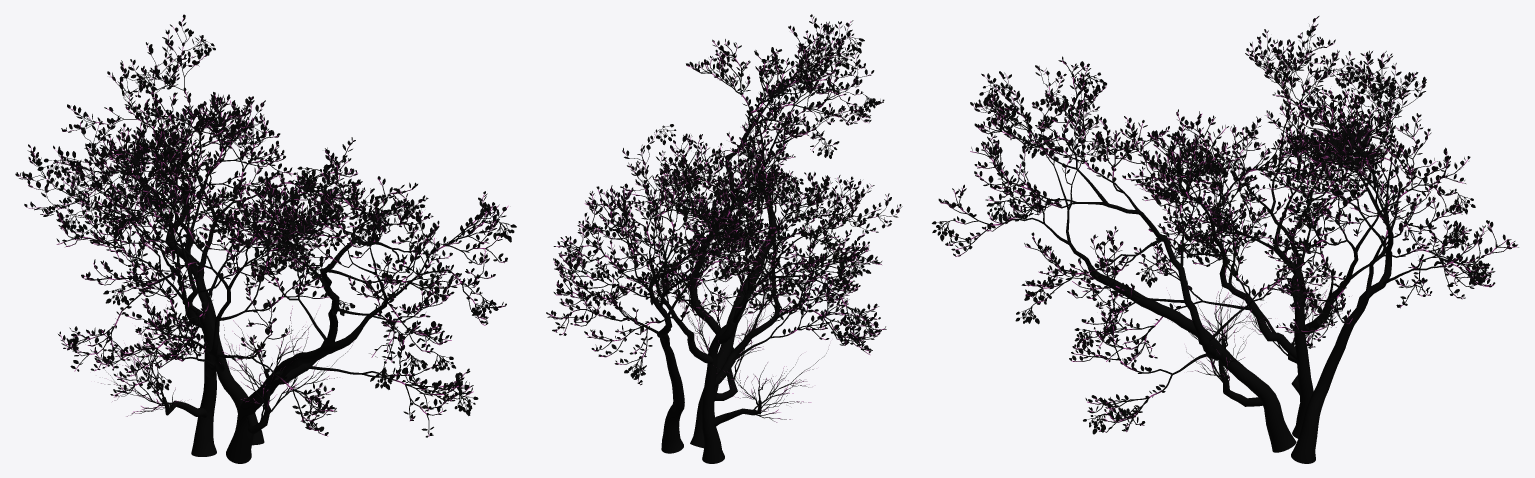
File: 3DTree_Arctostaphylos manzanita_06.FBX
3 renders of one model, left to right at view 1: azimuth 30°, elevation 25°; view 2: azimuth 150°, elevation 25°; view 3: azimuth 270°, elevation 25°, orthographic. The views are drawn at different scales.
Visible parts, largest first — view 1: 3DTree_Arctostaphylos manzanita_06; view 2: 3DTree_Arctostaphylos manzanita_06; view 3: 3DTree_Arctostaphylos manzanita_06.
Boxes of the visible parts, <box> form: 3DTree_Arctostaphylos manzanita_06: <box>15,14,516,463</box>; 3DTree_Arctostaphylos manzanita_06: <box>546,14,902,463</box>; 3DTree_Arctostaphylos manzanita_06: <box>932,16,1518,463</box>.
Size of the model in its own units: 317 by 322 by 439.
